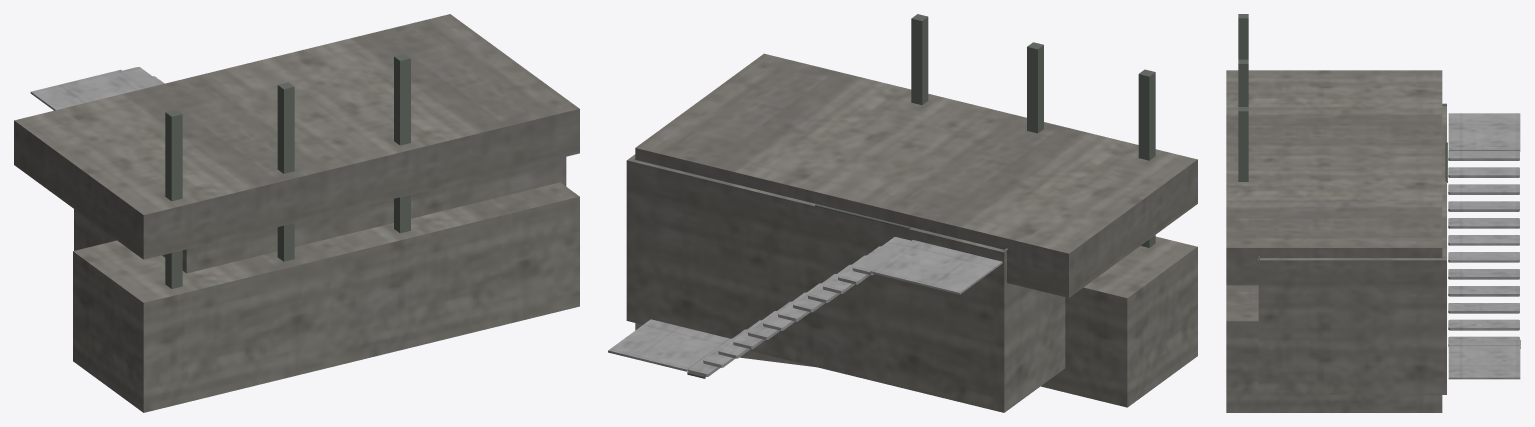
File: nycity_16.gltf
The picture shows the model from 3 angles, left to right: view 1: azimuth 30°, elevation 25°; view 2: azimuth 150°, elevation 25°; view 3: azimuth 270°, elevation 25°; orthographic projection. The views are drawn at different scales.
Parts seen in each view (by area): view 1: nycity_16; view 2: nycity_16; view 3: nycity_16.
Boxes of the visible parts, x1,y1,x2,y2 form: nycity_16: (14,14,579,412); nycity_16: (608,14,1197,412); nycity_16: (1226,14,1520,412).
Size of the model in its own units: 6.1 by 3.72 by 4.21.
Materials: 2 (1 with a texture image).
